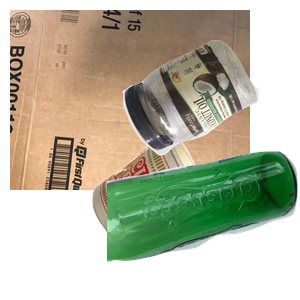cardboard: (10, 10, 250, 190)
glass: (107, 149, 300, 300)
plastic: (120, 37, 300, 185)
trash: (90, 129, 295, 300)
